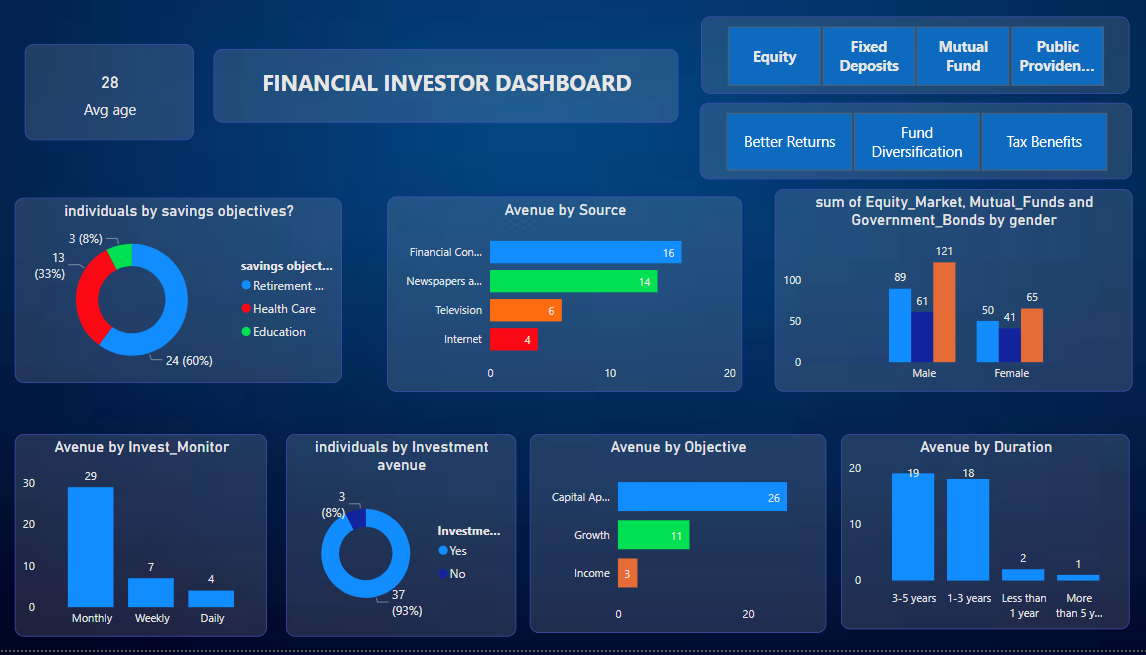

The page's visual inventory and layout, read from the dashboard file:
{"tool":"powerbi","page":{"name":"Page 1","canvas":[1280,720],"ordinal":0},"visuals":[{"type":"donutChart","fields":{"Category":["Data_set 2.What are your savings objectives?"],"Y":["CountNonNull(Data_set 2.gender)"]},"box":[26.1,223.7,359.5,203.1],"z":0},{"type":"donutChart","fields":{"Y":["CountNonNull(Data_set 2.gender)"],"Category":["Data_set 2.Investment_Avenues"]},"box":[323.8,483,252.5,222.3],"z":1000},{"type":"clusteredColumnChart","fields":{"Y":["CountNonNull(Data_set 2.Avenue)"],"Category":["Data_set 2.Invest_Monitor"]},"box":[26.1,483,277.2,222.3],"z":2000},{"type":"clusteredColumnChart","fields":{"Category":["Data_set 2.gender"],"Y":["Sum(Data_set 2.Equity_Market)","Sum(Data_set 2.Mutual_Funds)","Sum(Data_set 2.Government_Bonds)"]},"box":[860.4,214.1,392.5,222.3],"z":3000},{"type":"barChart","fields":{"Category":["Data_set 2.Source"],"Y":["CountNonNull(Data_set 2.Avenue)"]},"box":[435,222.3,389.7,214.1],"z":4000},{"type":"columnChart","fields":{"Category":["Data_set 2.Duration"],"Y":["CountNonNull(Data_set 2.Avenue)"]},"box":[933.1,483,317,214.1],"z":5000},{"type":"barChart","fields":{"Category":["Data_set 2.Objective"],"Y":["CountNonNull(Data_set 2.Avenue)"]},"box":[591.4,483,325.2,218.2],"z":6000},{"type":"slicer","fields":{"Values":["Data_set 2.Avenue"]},"box":[780,25,470,85],"z":7000},{"type":"card","fields":{"Values":["Data_set 2.avg age"]},"box":[37,54.9,185.2,105.7],"z":8000},{"type":"slicer","fields":{"Values":["Data_set 2.Reason_Mutual"]},"box":[778,119.4,474.8,83.7],"z":9000},{"type":"textbox","box":[244.3,60.4,510.5,81],"z":10000}]}

Visuals, with their boxes in screenshot pixels (x1, y1, x2, y2), scaled from the page's 1280x720 canvas onto the 1146x655 screenshot:
donutChart - Data_set 2.What are your savings objectives? x CountNonNull(Data_set 2.gender): (left=23, top=204, right=345, bottom=388)
donutChart - CountNonNull(Data_set 2.gender) x Data_set 2.Investment_Avenues: (left=290, top=439, right=516, bottom=642)
clusteredColumnChart - CountNonNull(Data_set 2.Avenue) x Data_set 2.Invest_Monitor: (left=23, top=439, right=272, bottom=642)
clusteredColumnChart - Data_set 2.gender x Sum(Data_set 2.Equity_Market): (left=770, top=195, right=1122, bottom=397)
barChart - Data_set 2.Source x CountNonNull(Data_set 2.Avenue): (left=389, top=202, right=738, bottom=397)
columnChart - Data_set 2.Duration x CountNonNull(Data_set 2.Avenue): (left=835, top=439, right=1119, bottom=634)
barChart - Data_set 2.Objective x CountNonNull(Data_set 2.Avenue): (left=529, top=439, right=821, bottom=638)
slicer - Data_set 2.Avenue: (left=698, top=23, right=1119, bottom=100)
card - Data_set 2.avg age: (left=33, top=50, right=199, bottom=146)
slicer - Data_set 2.Reason_Mutual: (left=697, top=109, right=1122, bottom=185)
textbox: (left=219, top=55, right=676, bottom=129)
